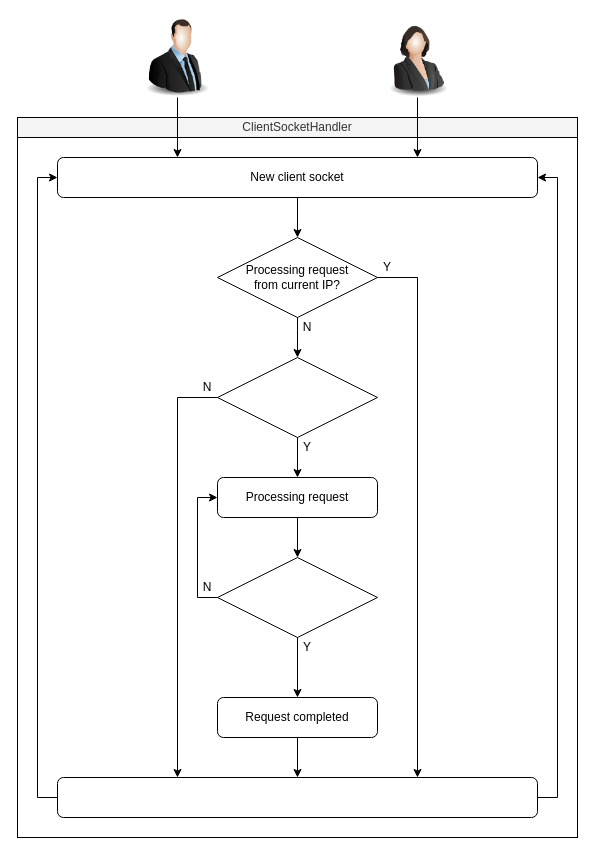
Some shapes in this 595 by 855 pixel diagram are drawn without their labels. Each missing label, with the centre of its shape:
"Close client socket" belongs at point 297,797.
"Decoder socket available?" belongs at point 297,397.
"Decoder socket closed?" belongs at point 297,597.
